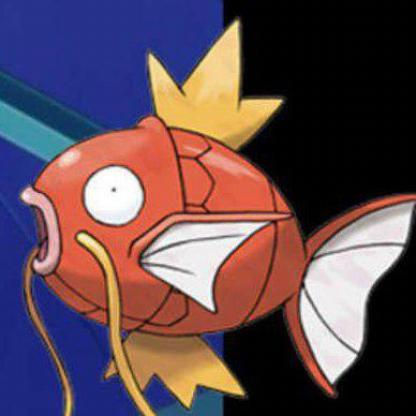Magikarp: (1, 1, 416, 416), (1, 1, 407, 385)
